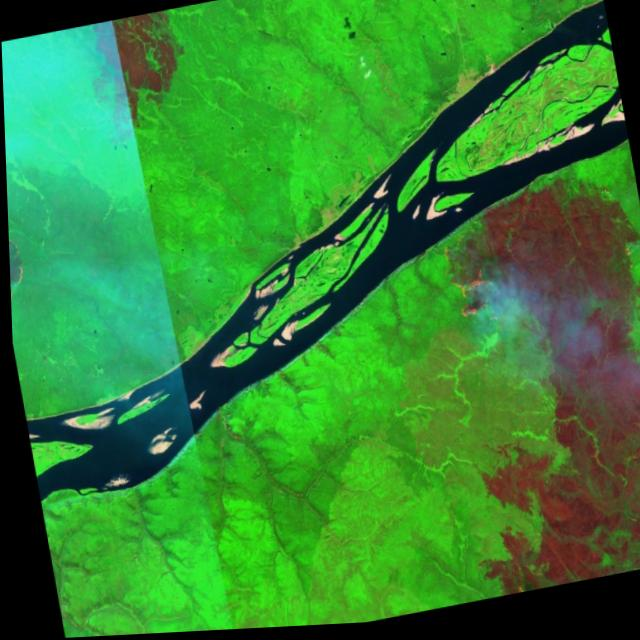fire: (435, 234, 493, 335), (7, 231, 41, 316)
